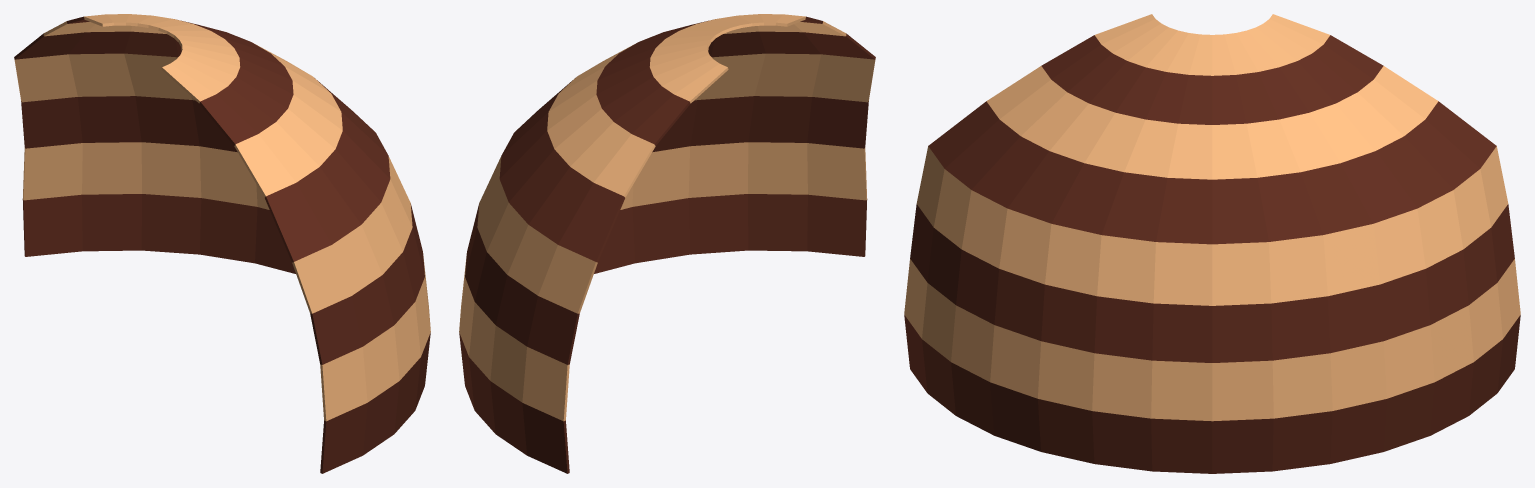
The picture shows the model from 3 angles, left to right: view 1: azimuth 30°, elevation 25°; view 2: azimuth 150°, elevation 25°; view 3: azimuth 270°, elevation 25°; orthographic projection.
Visible parts, largest first — view 1: Sphere; view 2: Sphere; view 3: Sphere.
Part boxes in pixels (x1,y1,x2,y2): Sphere: (14, 14, 430, 473); Sphere: (459, 14, 875, 473); Sphere: (904, 14, 1520, 473).
Bounding box in the file's own units: 935 × 1142 × 1906.
